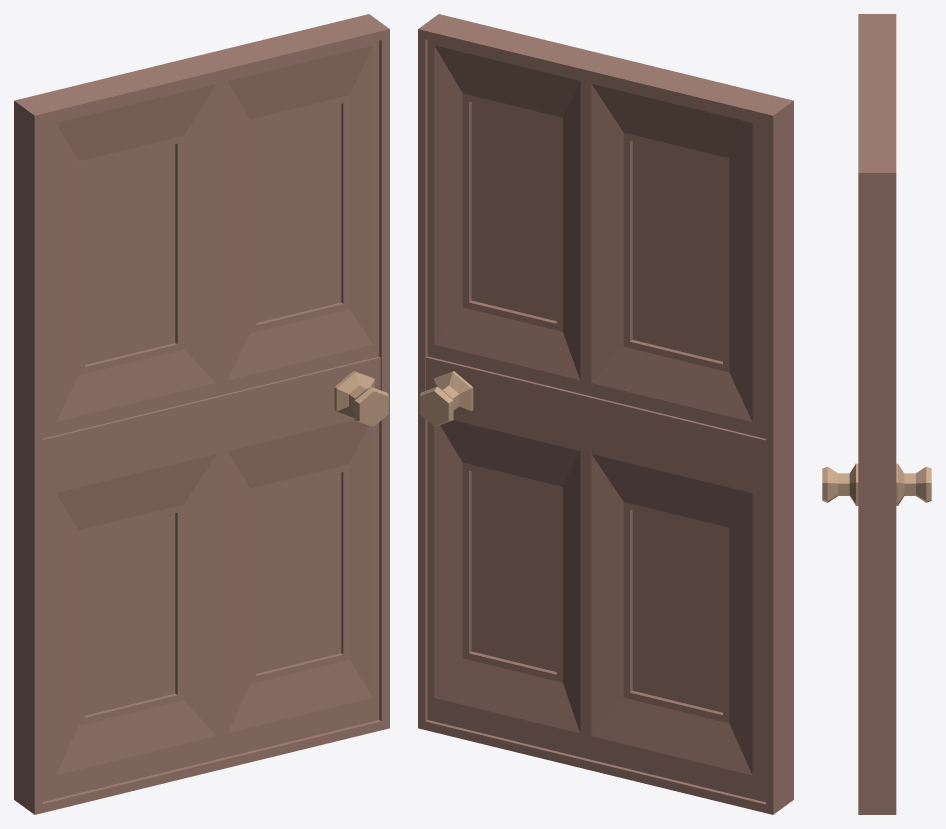
File: DOOR.fbx
The picture shows the model from 3 angles, left to right: view 1: azimuth 30°, elevation 25°; view 2: azimuth 150°, elevation 25°; view 3: azimuth 270°, elevation 25°; orthographic projection. The views are drawn at different scales.
Parts seen in each view (by area): view 1: Plane.005; view 2: Plane.005; view 3: Plane.005.
Boxes of the visible parts, x1=… form: Plane.005: x1=14, y1=14, x2=389, y2=814; Plane.005: x1=418, y1=14, x2=793, y2=814; Plane.005: x1=822, y1=14, x2=931, y2=814.
Size of the model in its own units: 4.34 by 8.16 by 1.26.
